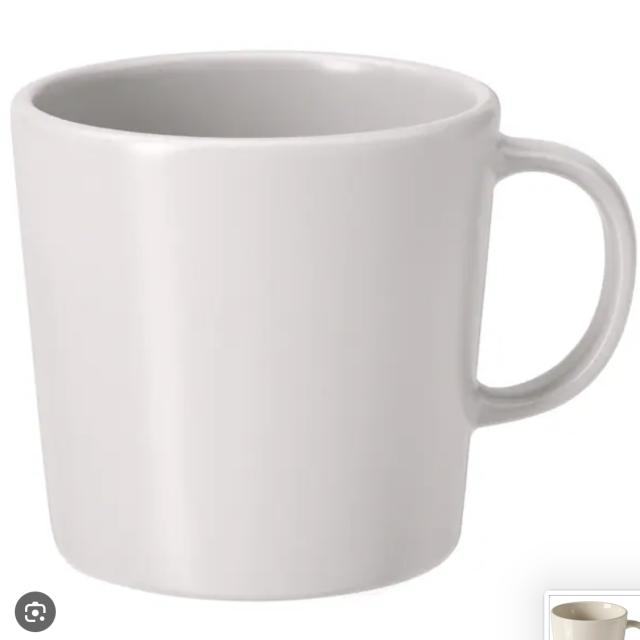recyclable: (4, 40, 640, 600)
